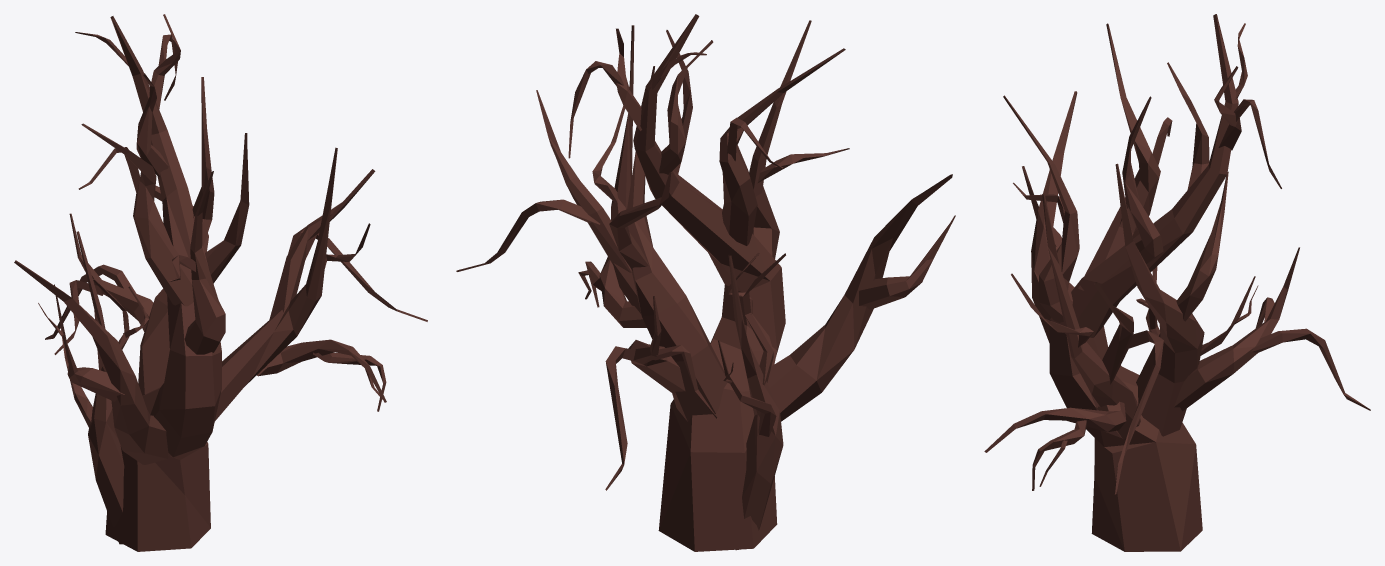
The model's file is large-tree_2.fbx.
3 renders of one model, left to right at view 1: azimuth 30°, elevation 25°; view 2: azimuth 150°, elevation 25°; view 3: azimuth 270°, elevation 25°, orthographic. The views are drawn at different scales.
Parts seen in each view (by area): view 1: LargeTree2_LOD0; view 2: LargeTree2_LOD0; view 3: LargeTree2_LOD0.
Boxes of the visible parts, x1,y1,x2,y2 form: LargeTree2_LOD0: (14,14,427,551); LargeTree2_LOD0: (456,14,955,551); LargeTree2_LOD0: (984,14,1370,551).
Size of what is drawn, in the model's own units: 17.76 by 19.68 by 13.29.
